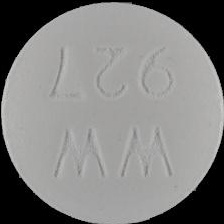10544-673: (0, 0, 224, 224)
